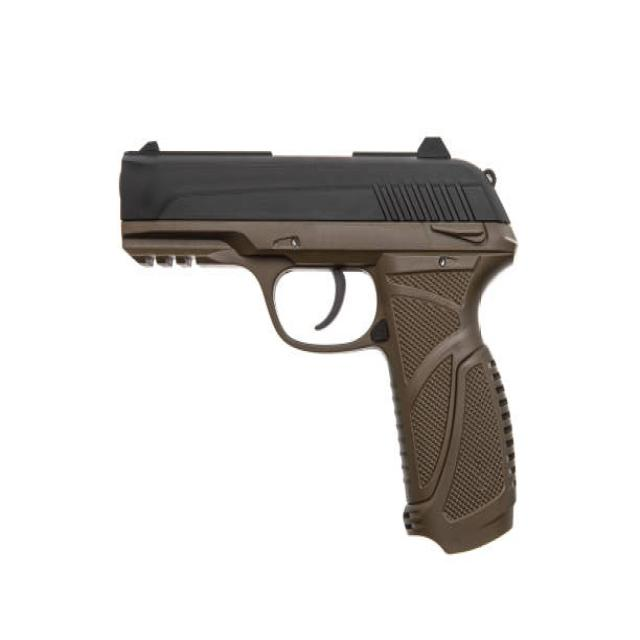pistol: (118, 127, 522, 565)
